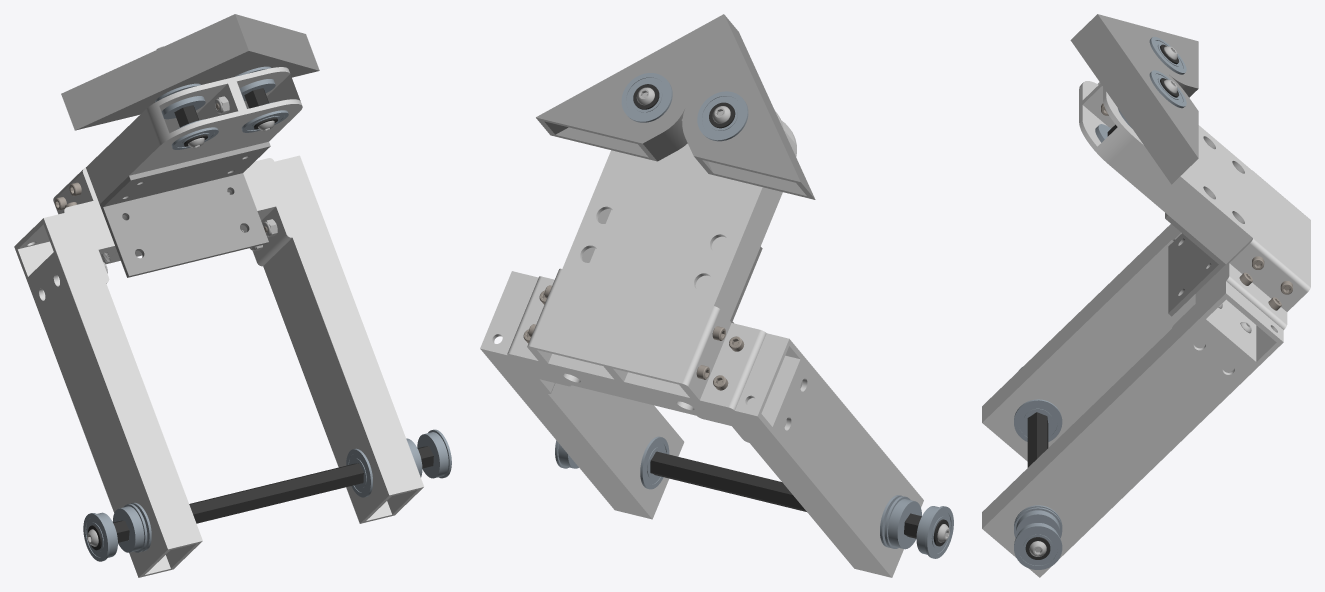
3 renders of one model, left to right at view 1: azimuth 30°, elevation 25°; view 2: azimuth 150°, elevation 25°; view 3: azimuth 270°, elevation 25°, orthographic. The views are drawn at different scales.
Visible parts, largest first — view 1: Tube 2"x1"x8" (×2), Part 14, Tube 2"x1"x4.95" (×2), Tube 2"x1"x7.084" (×2), Tube 2"x1"x7.325", Shaft (×3), .5" Hex ID 1.125" OD Flanged Bearing (217-2734) (×4), 2x1 Angle, 2x1 Angle w/ Raised Holes; view 2: Tube 2"x1"x7.084" (×2), Tube 2"x1"x8" (×2), Tube 2"x1"x4.95" (×2), Tube 2"x1"x7.325", .5" Hex ID 1.125" OD Flanged Bearing (217-2734) (×5), 2x1 Angle w/ Raised Holes (×2), Shaft; view 3: Tube 2"x1"x8" (×2), Tube 2"x1"x7.084" (×2), Tube 2"x1"x4.95" (×2), .5" Hex ID 1.125" OD Flanged Bearing (217-2734) (×5), Tube 2"x1"x7.325", 2x1 Angle w/ Raised Holes, Part 14, Shaft.
Boxes of the visible parts, x1,y1,x2,y2 form: Tube 2"x1"x8" (×2): [28, 192, 424, 577]; Part 14: [99, 141, 270, 277]; Tube 2"x1"x4.95" (×2): [61, 14, 319, 130]; Tube 2"x1"x7.084" (×2): [86, 67, 302, 203]; Tube 2"x1"x7.325": [14, 155, 313, 282]; Shaft (×3): [87, 46, 433, 550]; .5" Hex ID 1.125" OD Flanged Bearing (217-2734) (×4): [83, 429, 451, 561]; 2x1 Angle: [240, 201, 292, 266]; 2x1 Angle w/ Raised Holes: [53, 167, 99, 214]; Tube 2"x1"x7.084" (×2): [530, 111, 796, 401]; Tube 2"x1"x8" (×2): [495, 357, 923, 577]; Tube 2"x1"x4.95" (×2): [536, 14, 815, 199]; Tube 2"x1"x7.325": [480, 271, 804, 434]; .5" Hex ID 1.125" OD Flanged Bearing (217-2734) (×5): [621, 73, 953, 558]; 2x1 Angle w/ Raised Holes (×2): [507, 268, 766, 410]; Shaft: [650, 451, 949, 546]; Tube 2"x1"x8" (×2): [982, 224, 1256, 577]; Tube 2"x1"x7.084" (×2): [1079, 81, 1310, 286]; Tube 2"x1"x4.95" (×2): [1070, 14, 1198, 184]; .5" Hex ID 1.125" OD Flanged Bearing (217-2734) (×5): [1014, 36, 1186, 569]; Tube 2"x1"x7.325": [1199, 265, 1283, 368]; 2x1 Angle w/ Raised Holes: [1226, 238, 1310, 329]; Part 14: [1165, 213, 1225, 316]; Shaft: [1025, 412, 1050, 559].
Size of the model in its own units: 0.2584 by 0.3549 by 0.2108.
